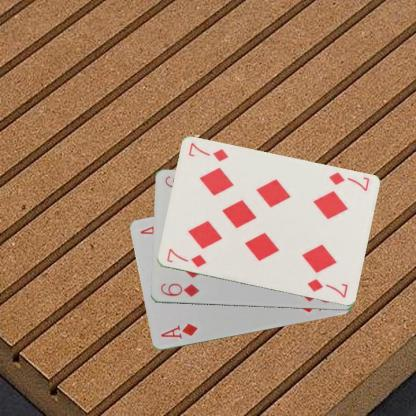6d: (158, 281, 200, 298)
7d: (326, 169, 370, 193), (164, 246, 208, 269)
Ad: (158, 321, 198, 340)
